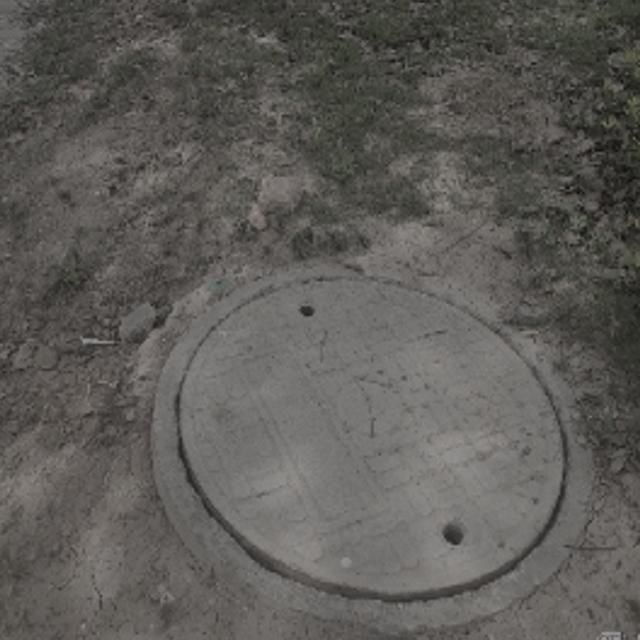good: (152, 255, 595, 639)
